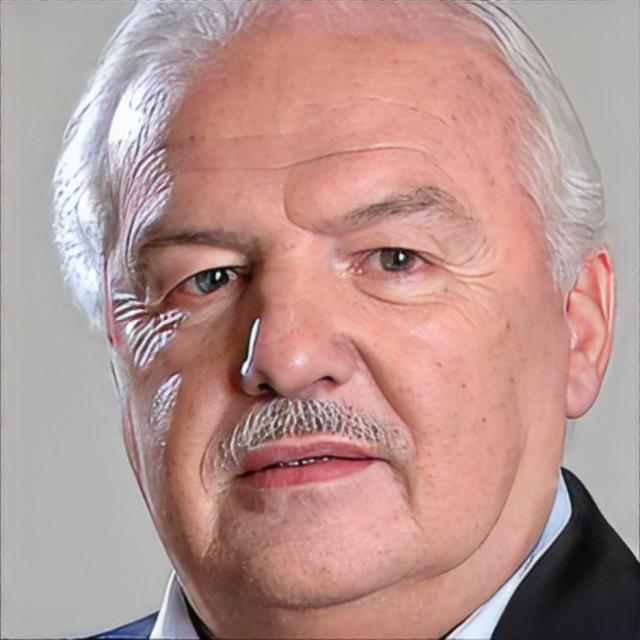disgust: (110, 1, 568, 612)
